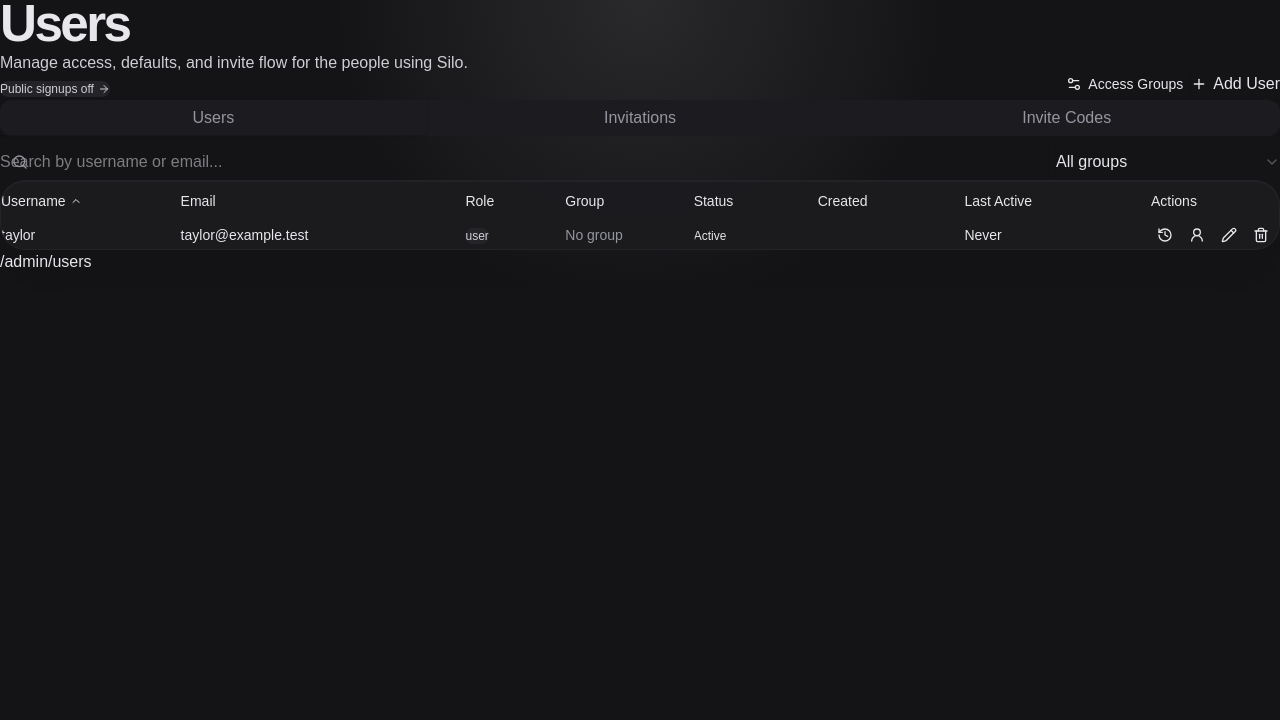
Test: AdminUsers row actions › explains that actions run as the user and lets the admin cancel
Click the button named "View as user: taylor" at (1197, 235), box [1183,221,1211,249]
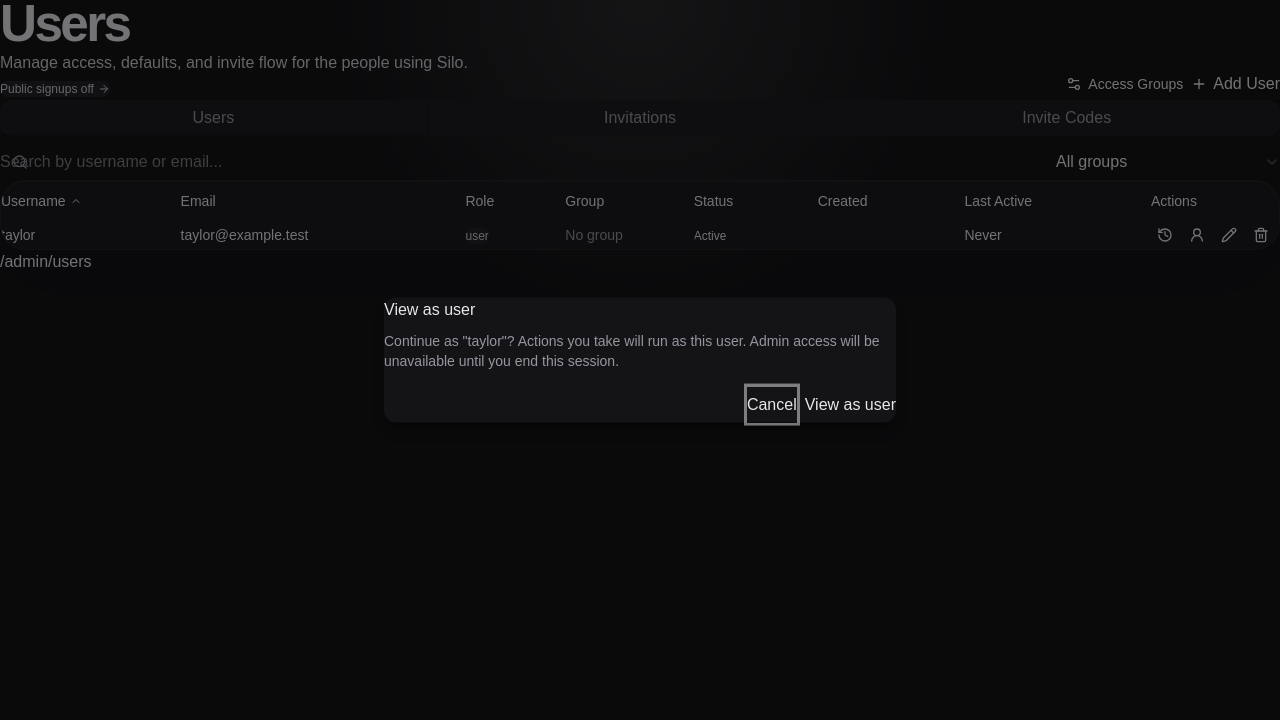
Expected: the dialog shows "Continue as \"taylor\"?", [384,332,880,368]
Expected: the dialog shows "Actions you take will run as this user.", [384,332,880,368]
Expected: the dialog shows "Admin access will be unavailable until you end this session.", [384,332,880,368]
Click the button "Cancel" at (772, 404), box [747,386,797,422]
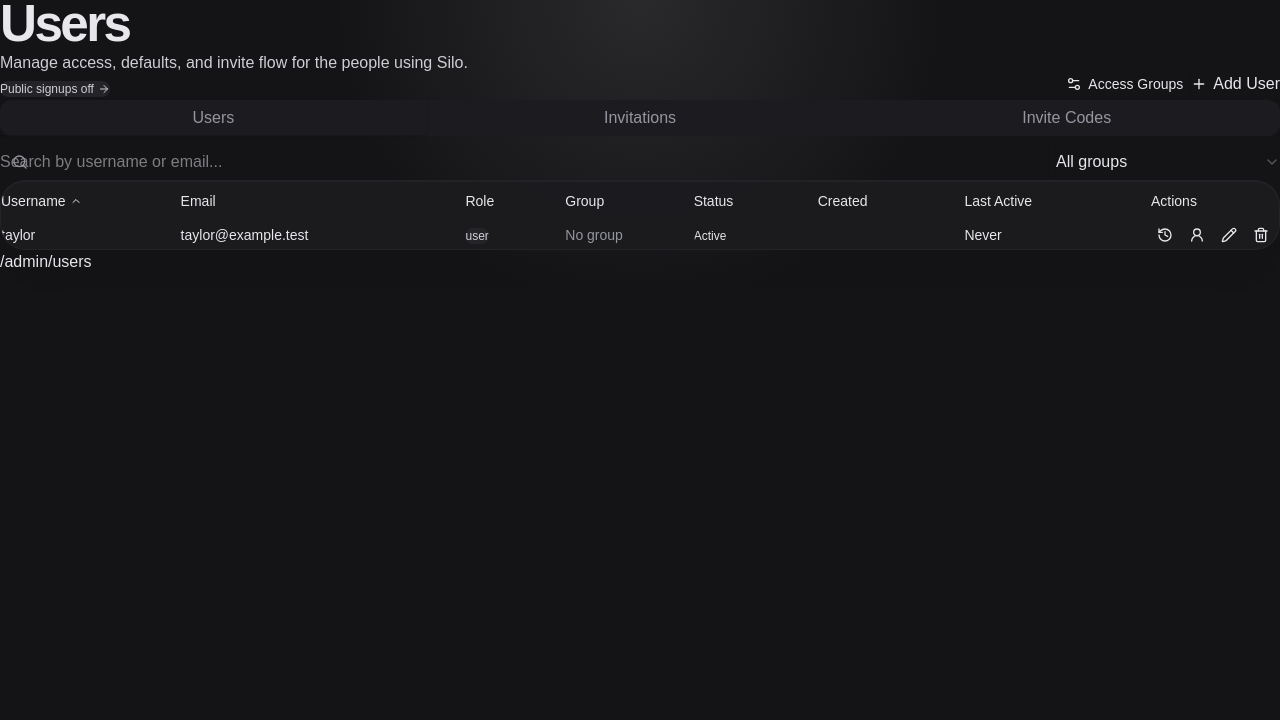
Expected: the dialog is gone
